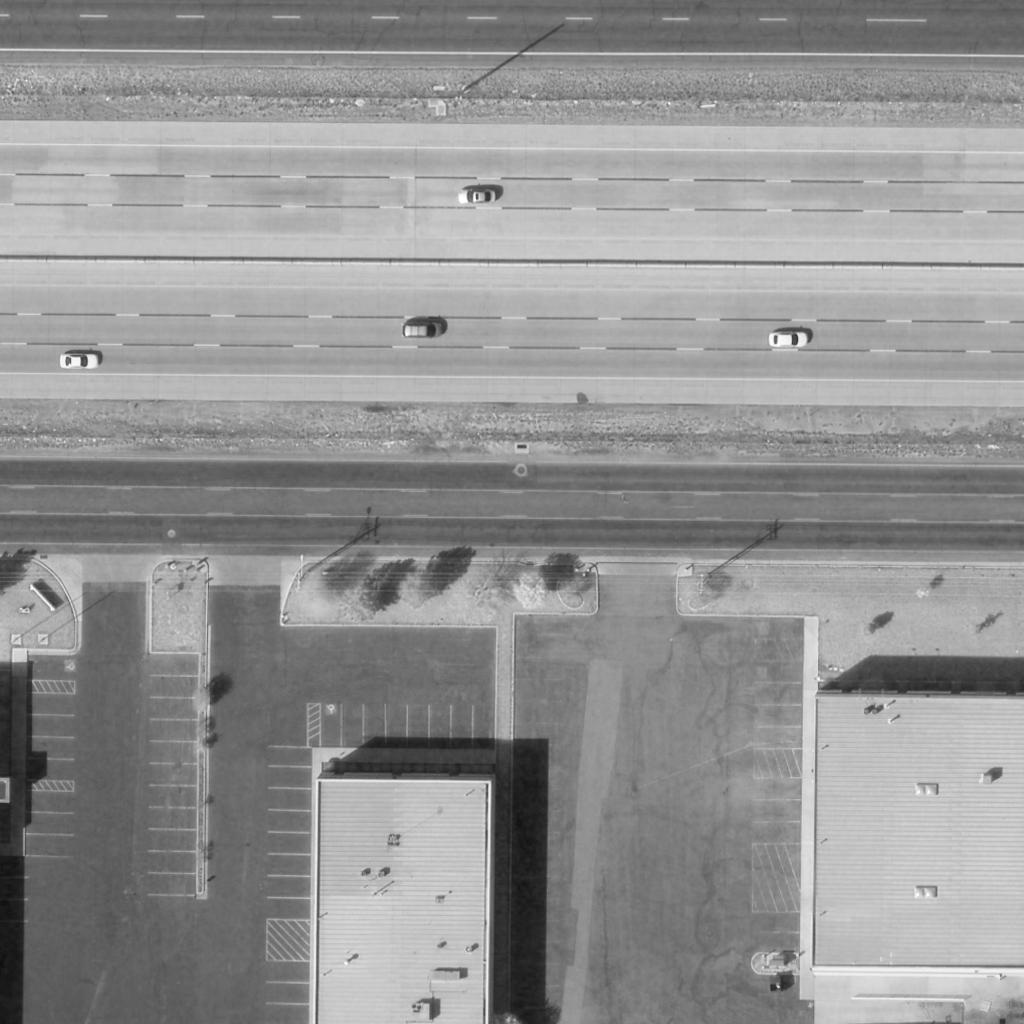vehicle: (767, 329, 811, 349), (401, 321, 445, 339), (59, 352, 101, 370), (458, 190, 498, 204)
